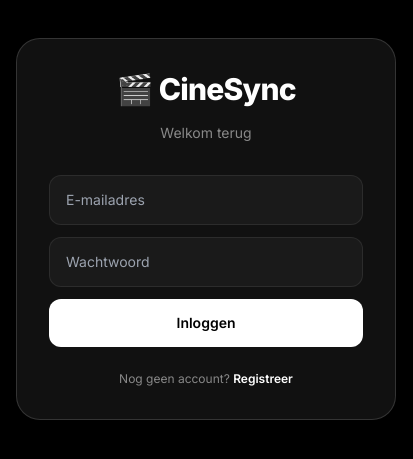
Login page › shows an error message when login fails
The width and height of the screenshot is (413, 459).
In the field with placeholder "E-mailadres": coordinates (206, 200) x1=49 y1=175 x2=363 y2=225, type "wrong@example.com"
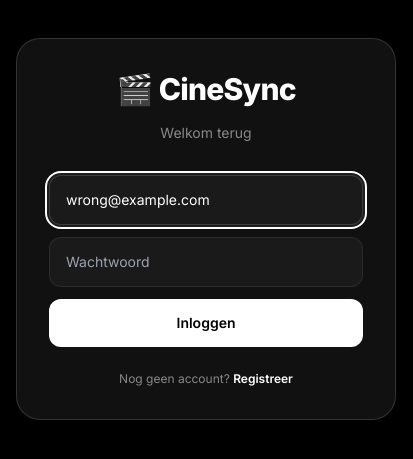
In the password field with placeholder "Wachtwoord": coordinates (206, 262) x1=49 y1=237 x2=363 y2=287, type "wrongpass"
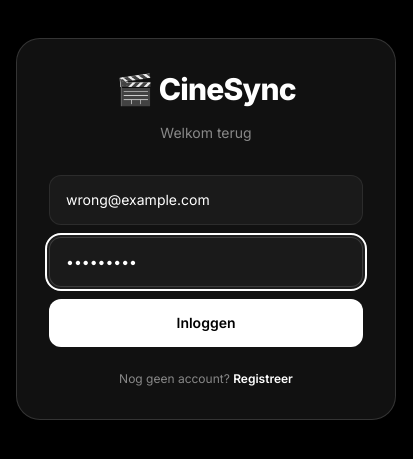
Click the button "Inloggen": coordinates (206, 323) x1=49 y1=299 x2=363 y2=347
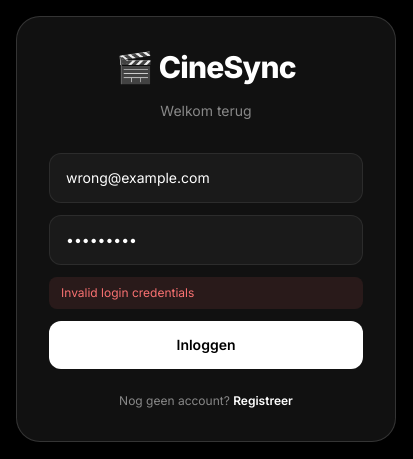
Check: the text "Invalid login credentials" is shown, box x1=49 y1=277 x2=363 y2=309
